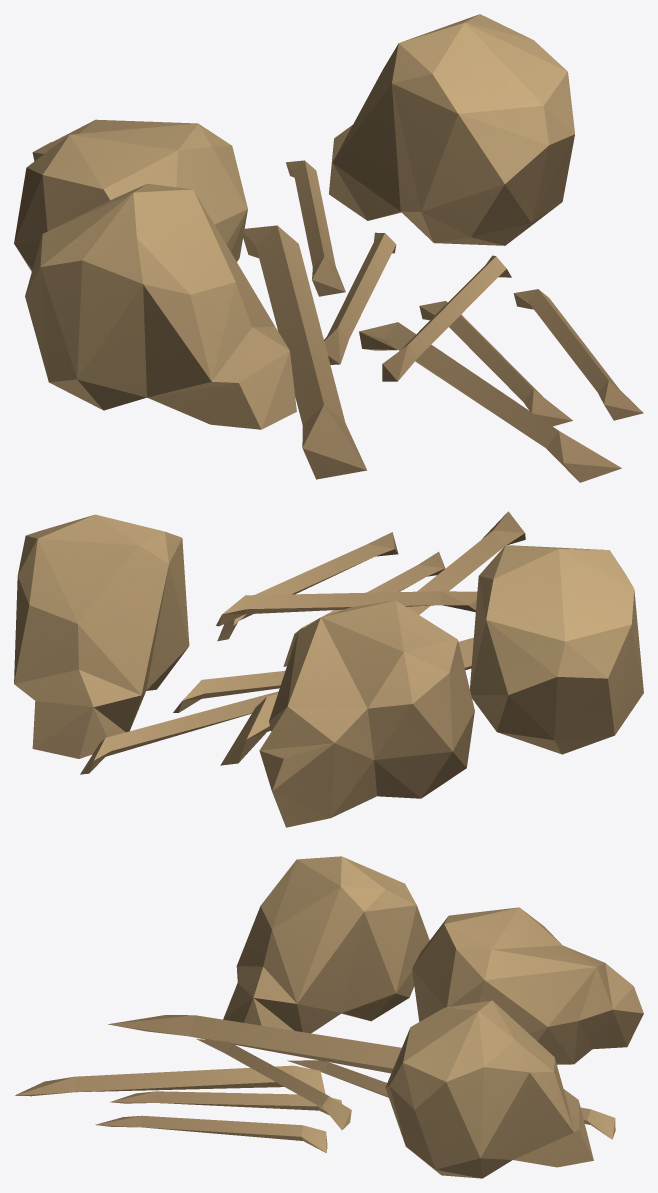
The model's file is Skull_4B_LOD.fbx.
3 renders of one model, top to bottom at view 1: azimuth 30°, elevation 25°; view 2: azimuth 150°, elevation 25°; view 3: azimuth 270°, elevation 25°, orthographic. The views are drawn at different scales.
Visible parts, largest first — view 1: polySurface1446; view 2: polySurface1446; view 3: polySurface1446.
Boxes of the visible parts, bbox=[...] form: polySurface1446: bbox=[14, 14, 643, 482]; polySurface1446: bbox=[14, 511, 643, 827]; polySurface1446: bbox=[15, 856, 643, 1178].
Bounding box in the file's own units: 1.88 × 0.6612 × 2.28.
